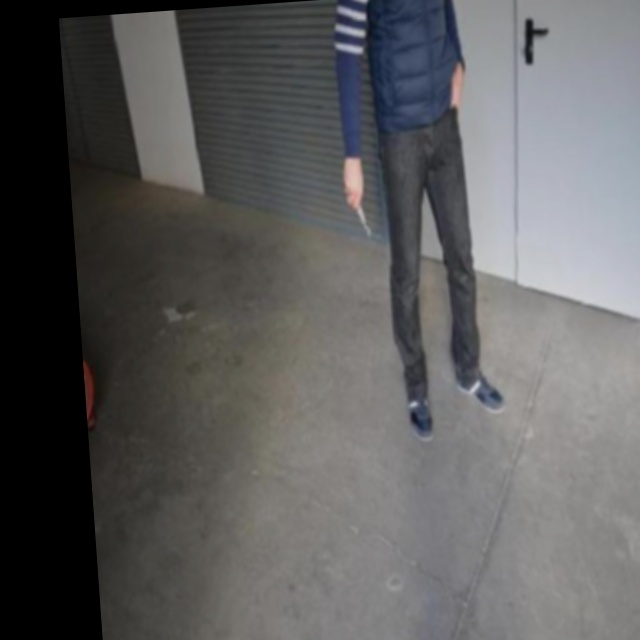Sharp-Object: (356, 204, 371, 238)
